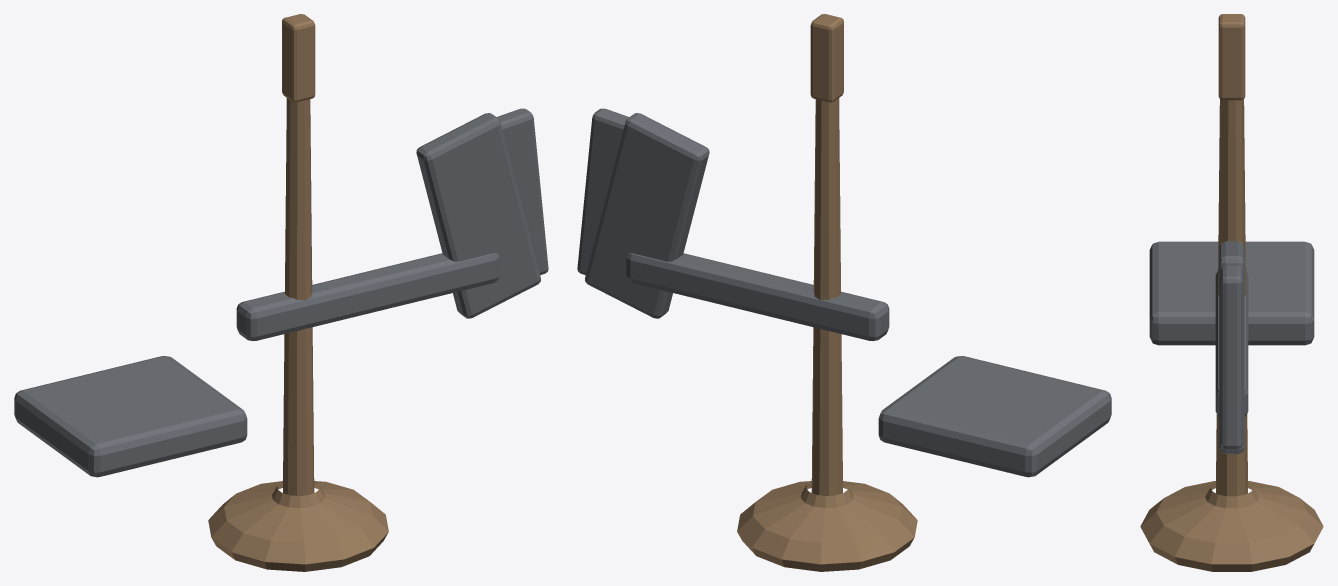
File: rush_light_stand.glb
The picture shows the model from 3 angles, left to right: view 1: azimuth 30°, elevation 25°; view 2: azimuth 150°, elevation 25°; view 3: azimuth 270°, elevation 25°; orthographic projection.
Parts seen in each view (by area): view 1: 082-rush-light-stand/1, 082-rush-light-stand/0; view 2: 082-rush-light-stand/1, 082-rush-light-stand/0; view 3: 082-rush-light-stand/1, 082-rush-light-stand/0.
Boxes of the visible parts, left/top/right/bottom form: 082-rush-light-stand/1: left=14, top=108, right=548, bottom=477; 082-rush-light-stand/0: left=208, top=14, right=388, bottom=571; 082-rush-light-stand/1: left=577, top=108, right=1111, bottom=477; 082-rush-light-stand/0: left=737, top=14, right=917, bottom=571; 082-rush-light-stand/1: left=1149, top=241, right=1314, bottom=453; 082-rush-light-stand/0: left=1140, top=14, right=1323, bottom=571.
Bounding box in the file's own units: 2 × 2 × 0.6414.
